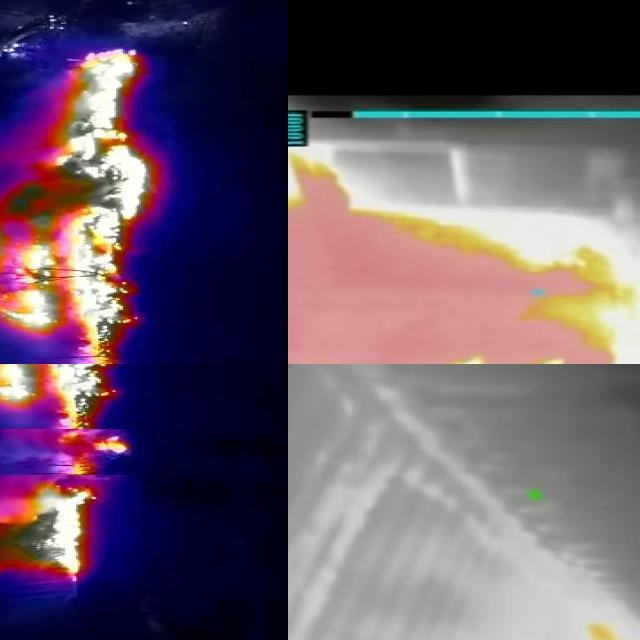fire: (289, 152, 625, 365), (1, 49, 153, 365), (1, 477, 103, 585), (1, 430, 137, 476)
